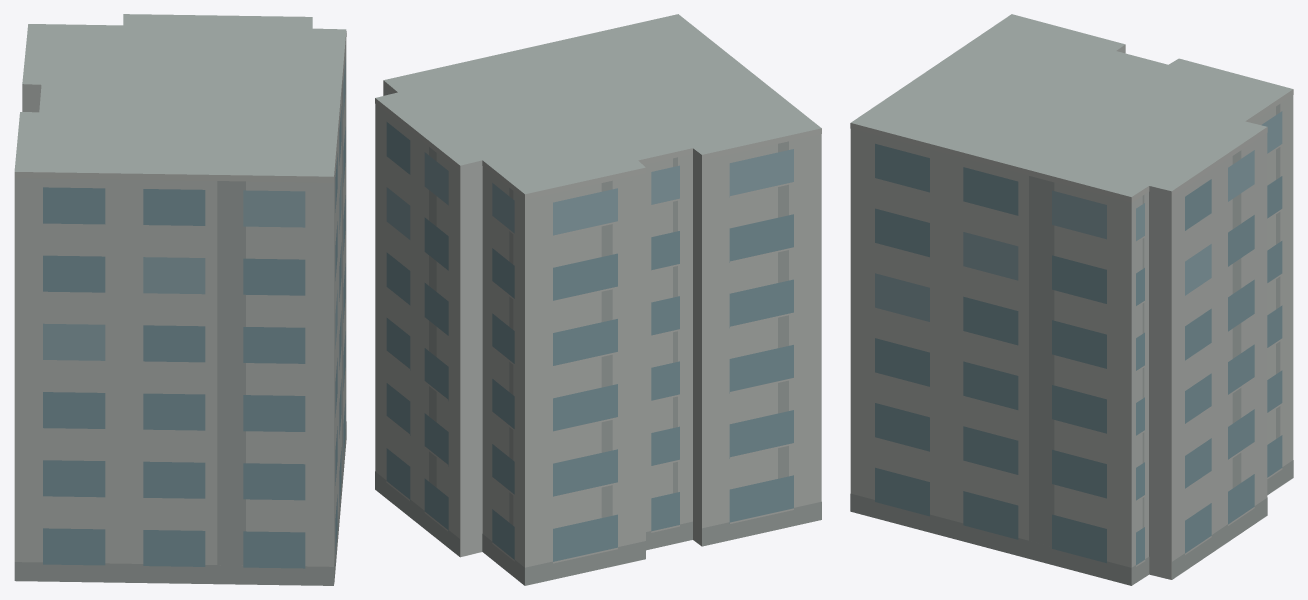
Rendered from survey-upis-32622815.glb.
The picture shows the model from 3 angles, left to right: view 1: azimuth 30°, elevation 25°; view 2: azimuth 150°, elevation 25°; view 3: azimuth 270°, elevation 25°; orthographic projection. The views are drawn at different scales.
Visible parts, largest first — view 1: survey-upis-32622815.tmp; view 2: survey-upis-32622815.tmp; view 3: survey-upis-32622815.tmp.
Part boxes in pixels (box(x1,y1,x2,y2)): survey-upis-32622815.tmp: box(14, 14, 346, 585); survey-upis-32622815.tmp: box(375, 14, 821, 585); survey-upis-32622815.tmp: box(850, 14, 1293, 585).
Bounding box in the file's own units: 16.68 × 16.5 × 17.05.
